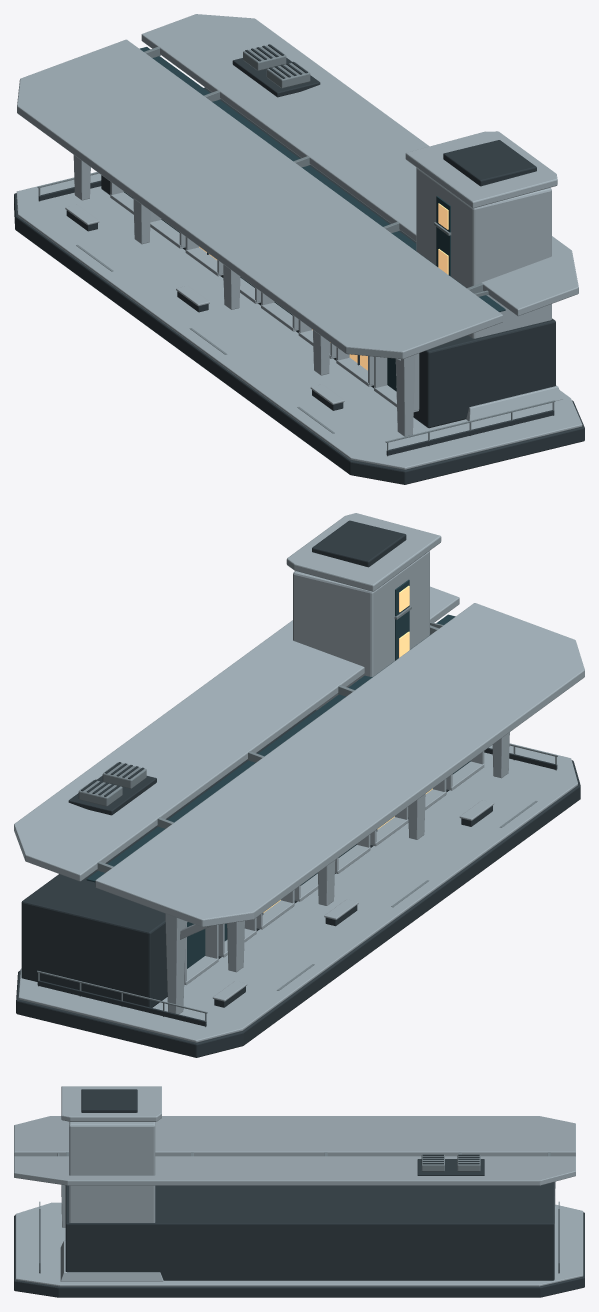
File: Nocturne_TransitStation_A.fbx
3 views of the same model, one above another, from view 1: azimuth 30°, elevation 25°; view 2: azimuth 150°, elevation 25°; view 3: azimuth 270°, elevation 25° (orthographic). The views are drawn at different scales.
Parts seen in each view (by area): view 1: Nocturne_TransitStation_A; view 2: Nocturne_TransitStation_A; view 3: Nocturne_TransitStation_A.
Part boxes in pixels (box(x1,y1,x2,y2)): Nocturne_TransitStation_A: box(14, 14, 584, 484); Nocturne_TransitStation_A: box(14, 513, 584, 1057); Nocturne_TransitStation_A: box(14, 1086, 584, 1297).
Size of the model in its own units: 23 by 22.35 by 64.
